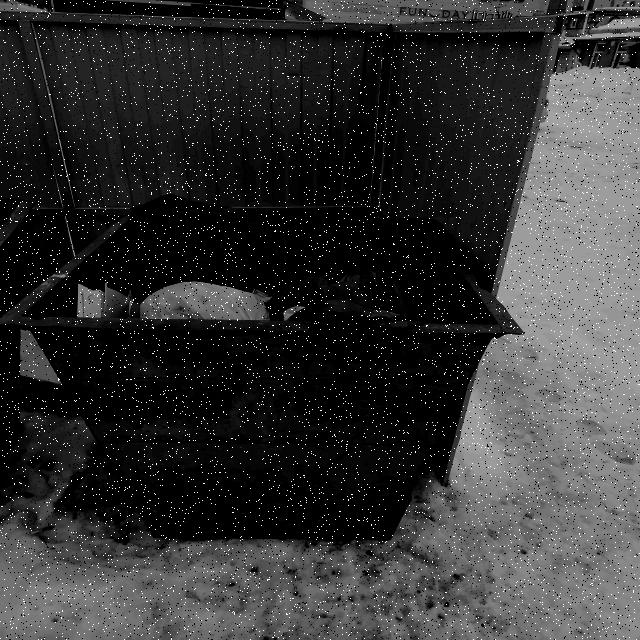Trashcan: (1, 186, 528, 578)
